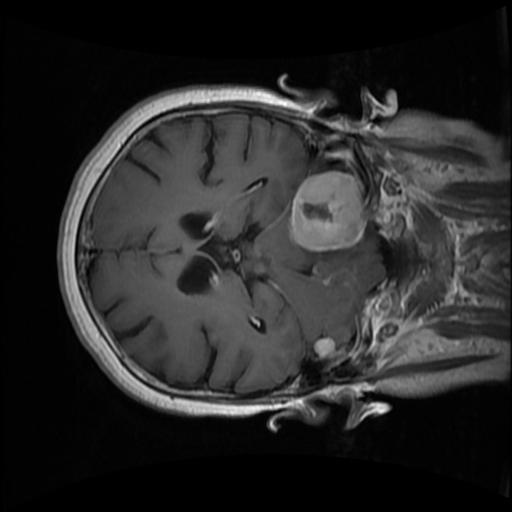meningioma: (289, 169, 366, 250)
